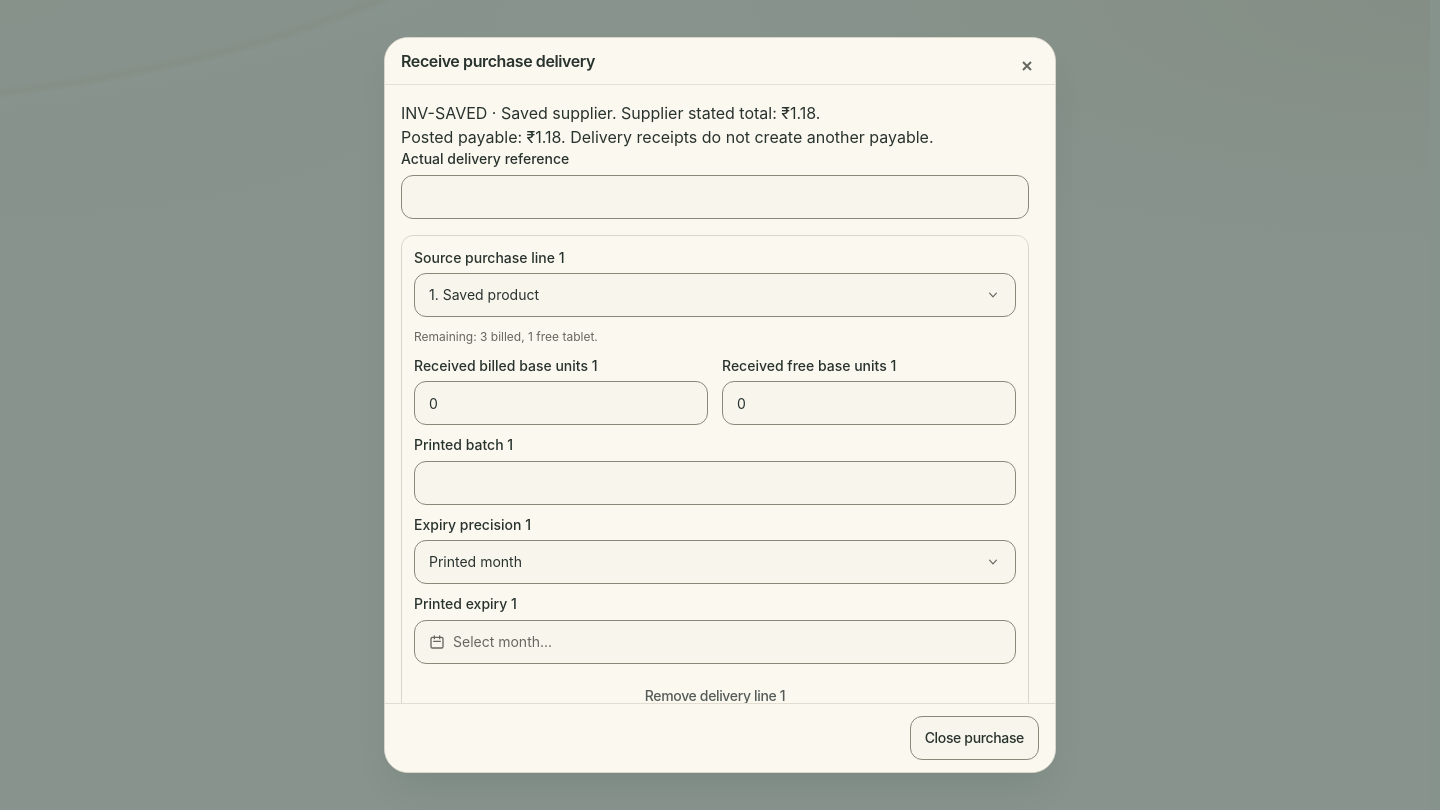
submits base quantities and printed expiry without accepting client acquisition-cost or payable overrides
In the field labelled "Actual delivery reference": (715, 197) [401,175,1029,219], type "ACTUAL-DELIVERY"
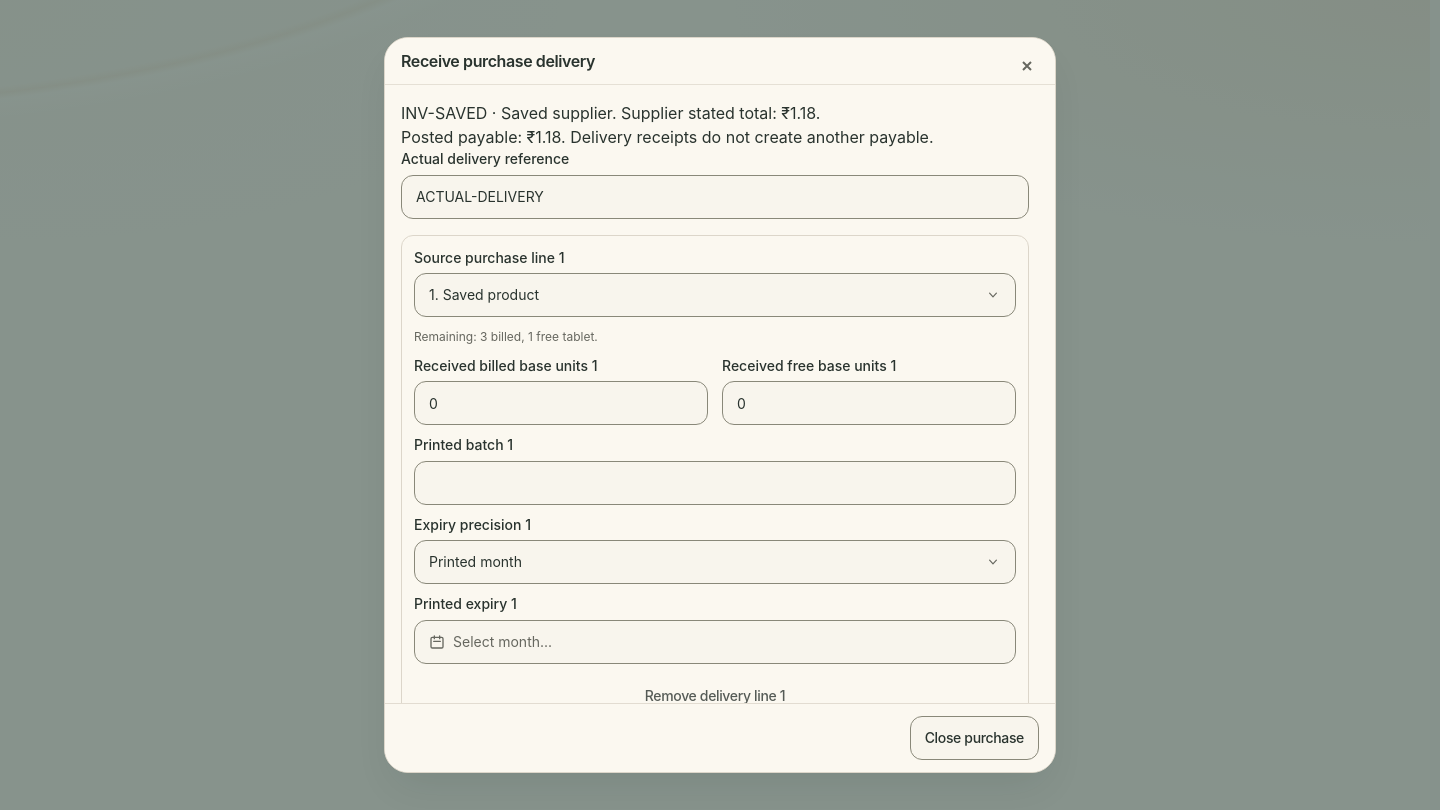
Replace the text in the number field labelled "Received billed base units 1" with "2": (561, 403) [414,381,708,425]
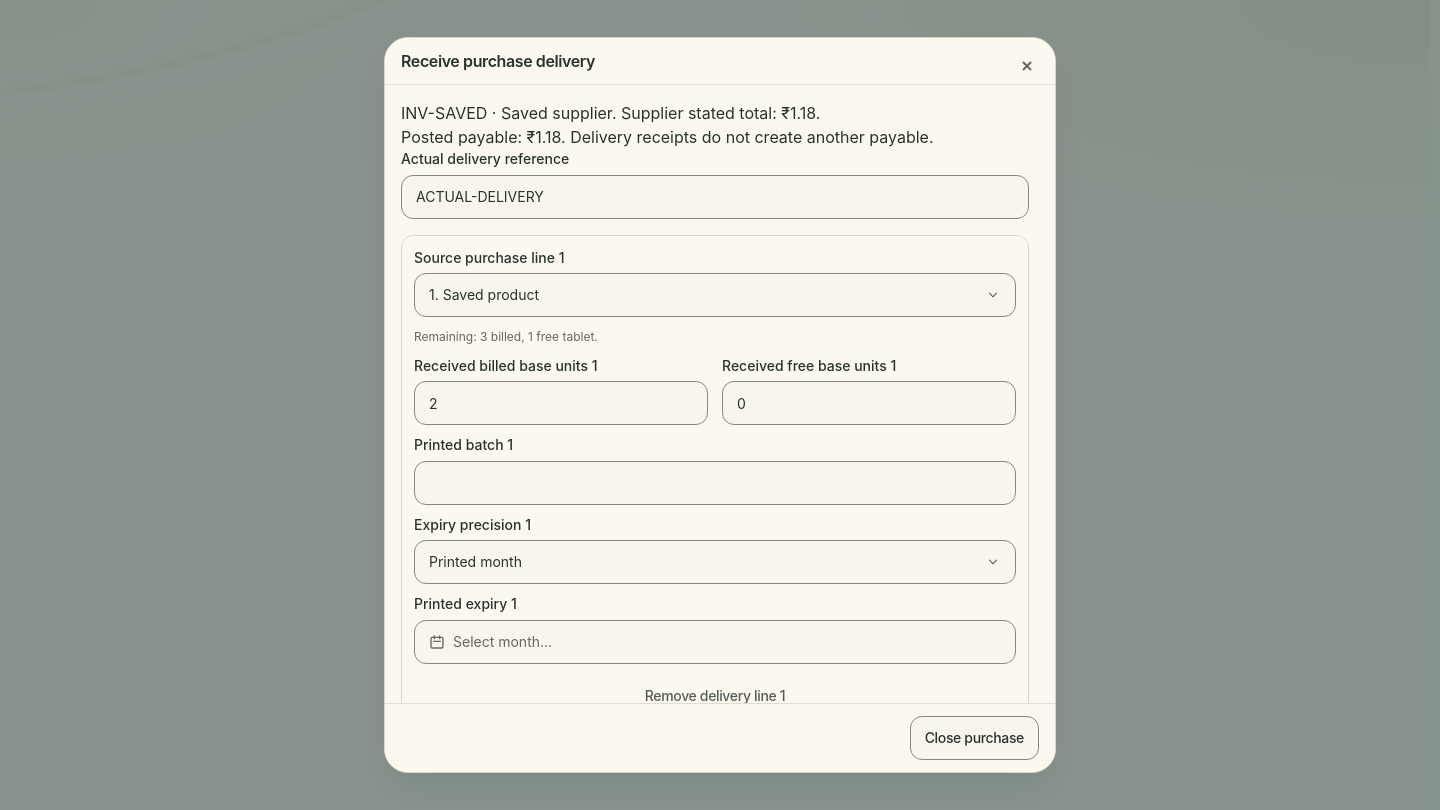
Replace the text in the number field labelled "Received free base units 1" with "1": (869, 403) [722,381,1016,425]
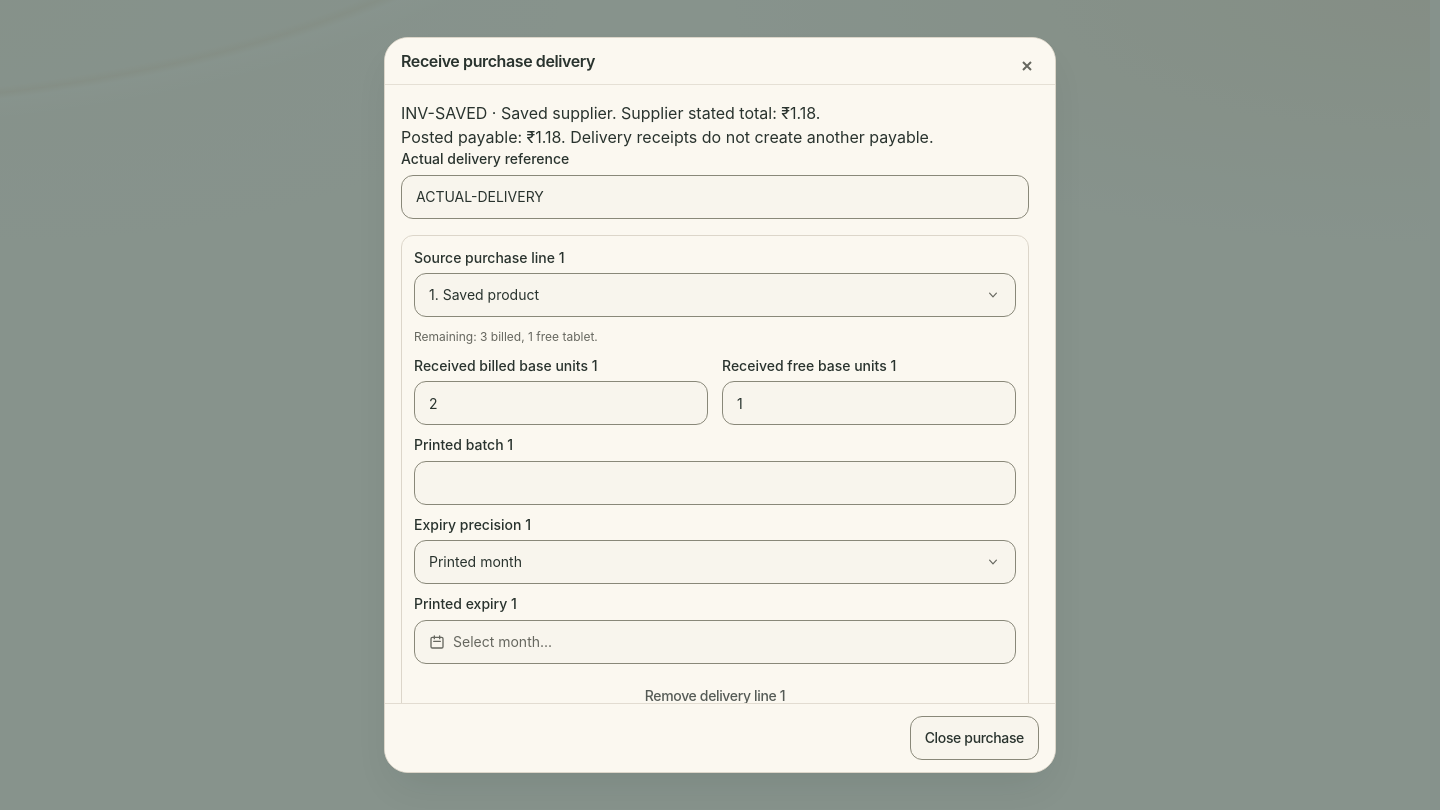
In the field labelled "Printed batch 1": (715, 483) [414,461,1016,505], type "ACTUAL-BATCH"
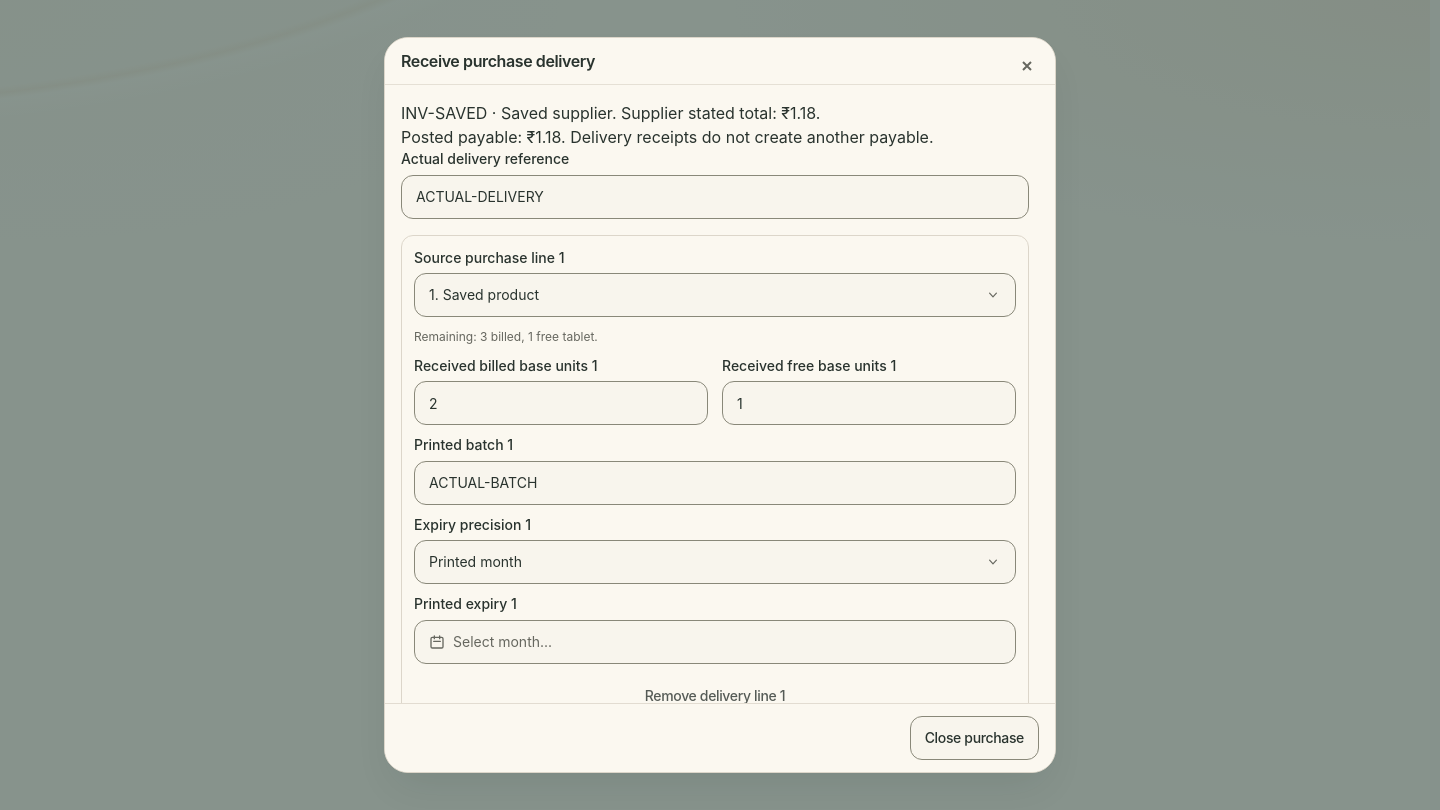
Replace the text in the field labelled "Select month..." with "2099-12": (715, 642) [414,620,1016,664]
(page scrolled)
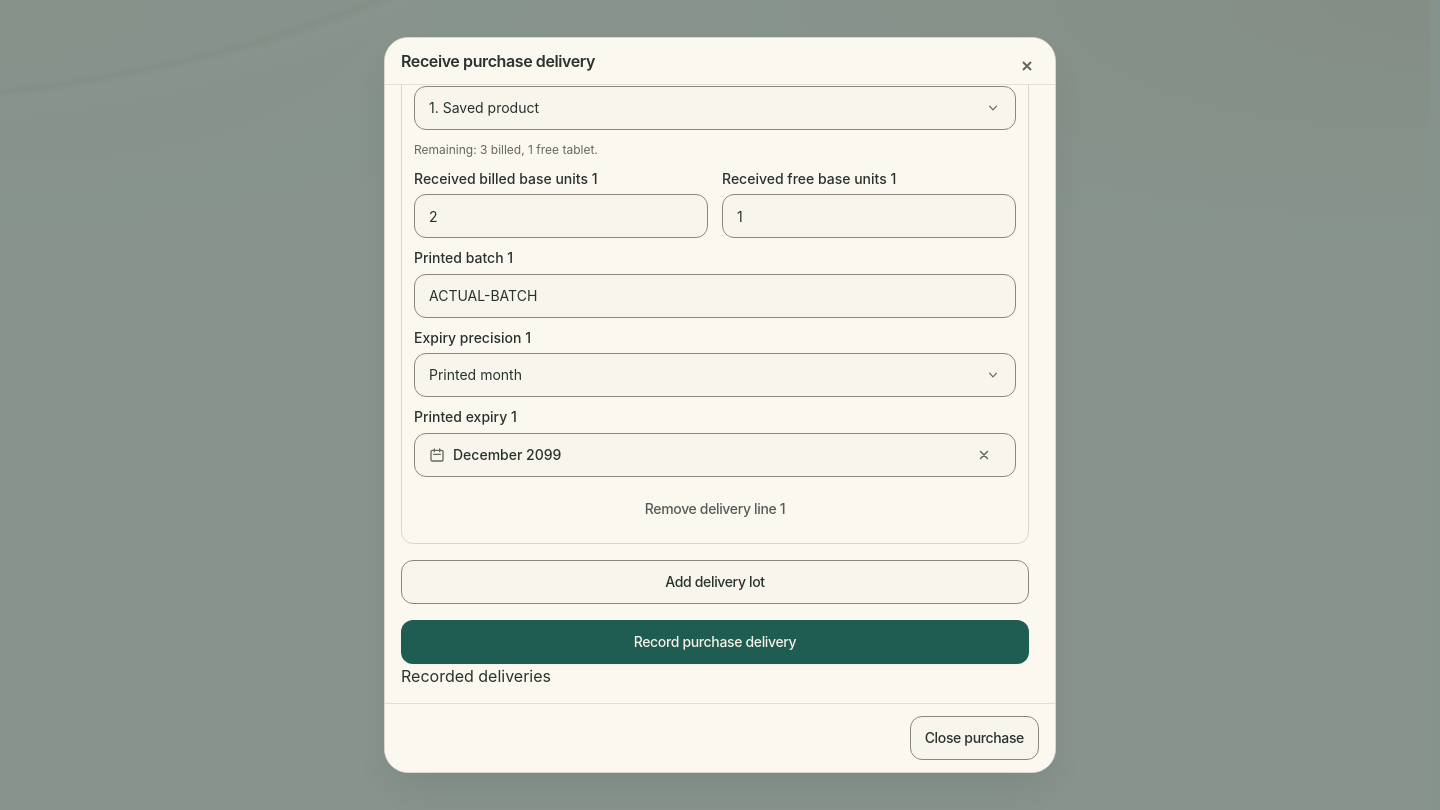
Click the button "Record purchase delivery": click(715, 642) [401,620,1029,664]
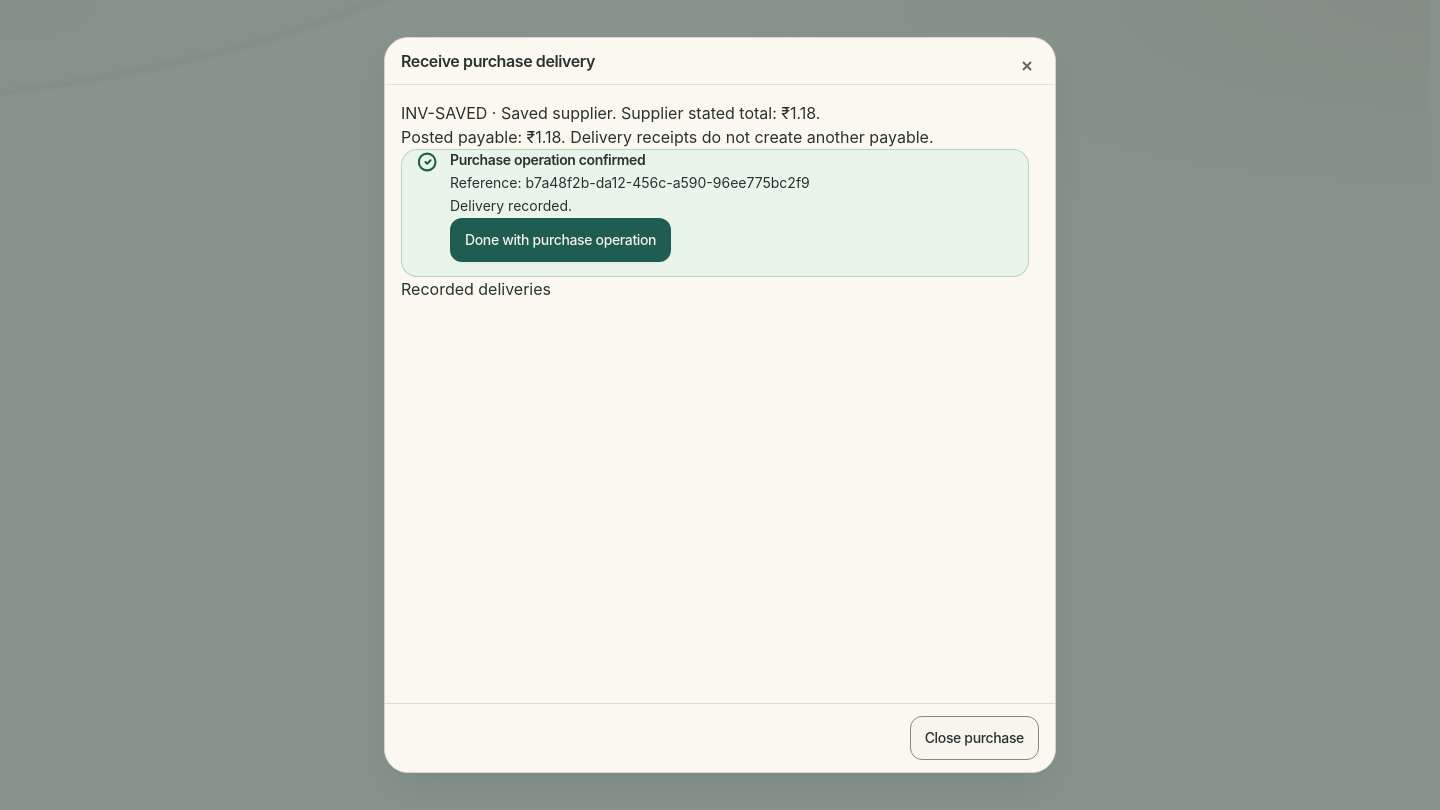
Result: the text "Delivery recorded." is shown at [450,197,572,214]
